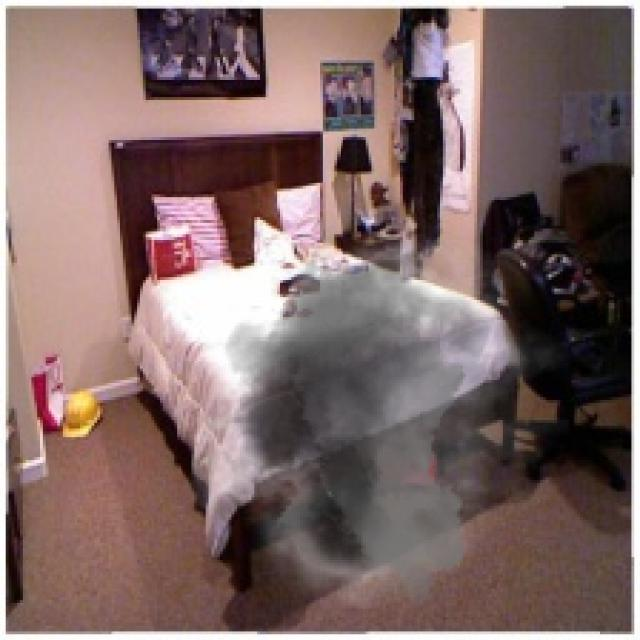smoke: (172, 217, 572, 609)
